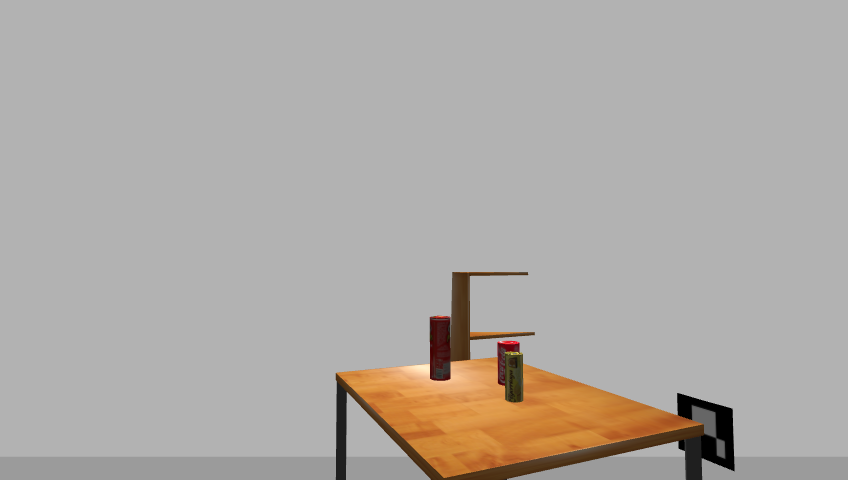aruco marker: (672, 392, 739, 473)
biscuits pack: (506, 353, 524, 403)
bookshelf: (449, 268, 533, 405)
coke can: (496, 340, 521, 387)
dinner table: (327, 357, 708, 480)
pringles can: (428, 316, 452, 382)
